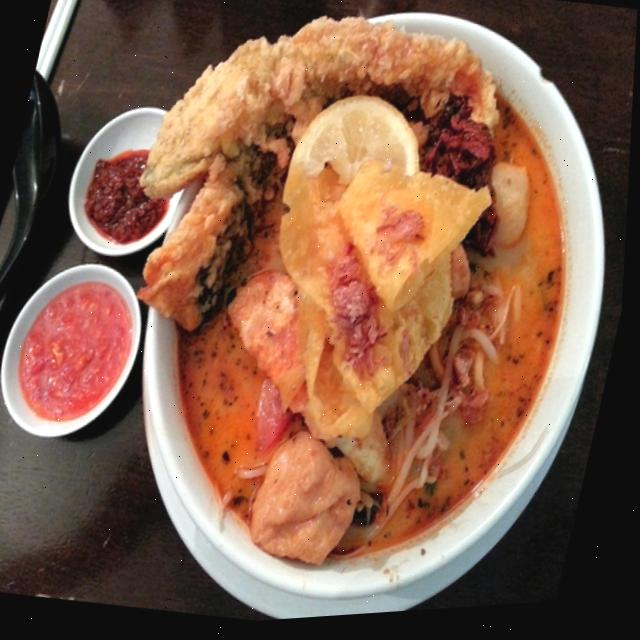面条主食: (79, 0, 640, 634)
